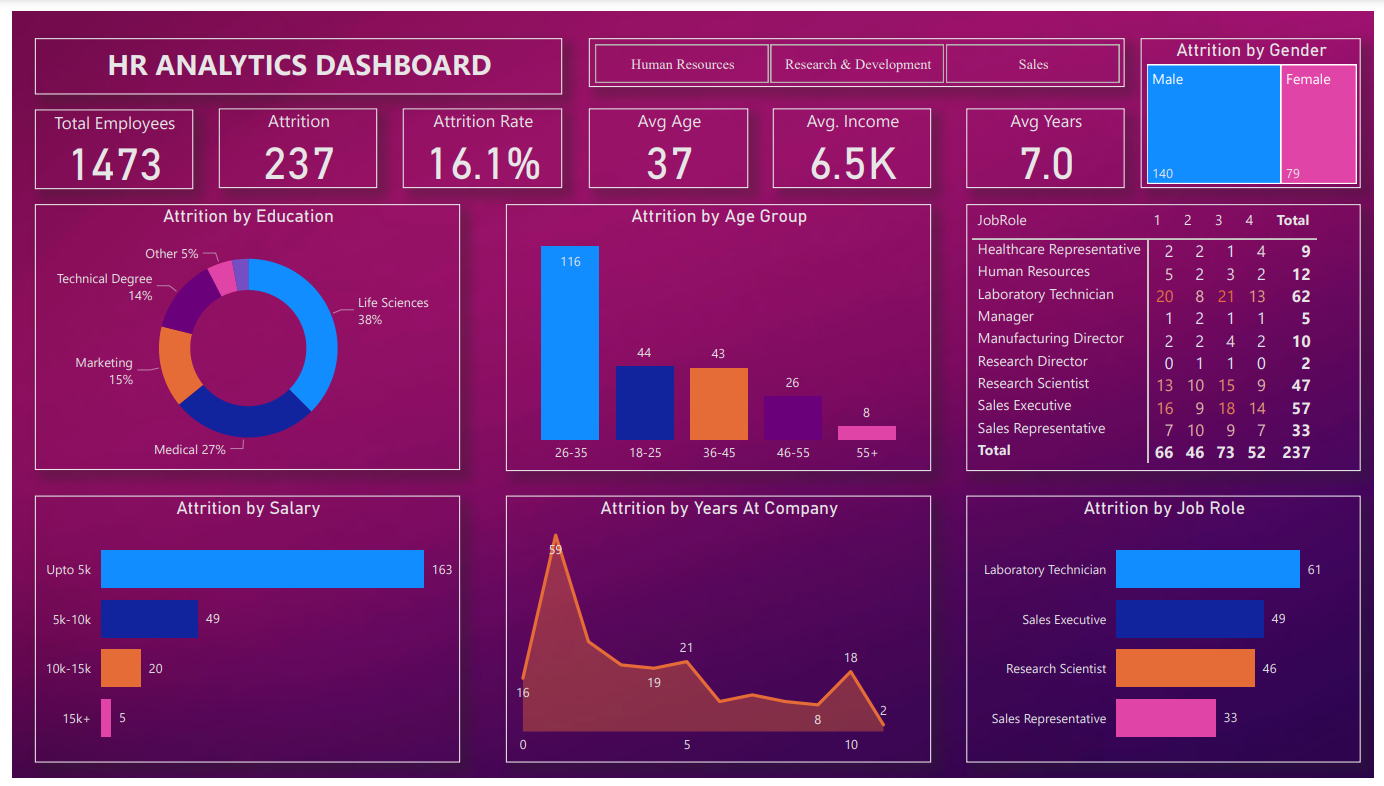

The dashboard page shown, as its layout file describes it:
{"tool":"powerbi","page":{"name":"Page 1","canvas":[1280,720],"ordinal":0},"visuals":[{"type":"card","title":"Total Employees","fields":{"Values":["CountNonNull(HR_Analytics.EmpID)"]},"box":[21.1,91.5,149,75.2],"z":0},{"type":"card","title":"Attrition","fields":{"Values":["Sum(HR_Analytics.AttritionCount)"]},"box":[193.8,91,149,75.2],"z":1000},{"type":"card","title":"Attrition Rate","fields":{"Values":["HR_Analytics.AttritionRate"]},"box":[366.5,91,150.3,75.2],"z":2000},{"type":"card","title":"Avg Age","fields":{"Values":["Avg(HR_Analytics.Age)"]},"box":[541.9,91,150.3,75.2],"z":3000},{"type":"card","title":"Avg. Income","fields":{"Values":["Avg(HR_Analytics.MonthlyIncome)"]},"box":[714.6,91,149,75.2],"z":4000},{"type":"card","title":"Avg Years","fields":{"Values":["Avg(HR_Analytics.YearsAtCompany)"]},"box":[896.6,91,149,75.2],"z":5000},{"type":"donutChart","title":"Attrition by Education","fields":{"Y":["Sum(HR_Analytics.AttritionCount)"],"Category":["HR_Analytics.EducationField"]},"box":[21.1,181.2,399.5,250],"z":6000},{"type":"columnChart","title":"Attrition by Age Group","fields":{"Category":["HR_Analytics.AgeGroup"],"Y":["Sum(HR_Analytics.AttritionCount)"]},"box":[464.1,181.2,399.5,250.5],"z":7000},{"type":"pivotTable","fields":{"Rows":["HR_Analytics.JobRole"],"Columns":["HR_Analytics.JobSatisfaction"],"Values":["Sum(HR_Analytics.AttritionCount)"]},"box":[896.6,181.2,371.8,250.5],"z":8000},{"type":"clusteredBarChart","title":"Attrition by Salary","fields":{"Category":["HR_Analytics.SalarySlab"],"Y":["Sum(HR_Analytics.AttritionCount)"]},"box":[21.1,455.4,399.5,250.5],"z":9000},{"type":"areaChart","title":"Attrition by Years At Company","fields":{"Y":["Sum(HR_Analytics.AttritionCount)"],"Category":["HR_Analytics.YearsAtCompany"]},"box":[464.1,455.4,399.5,250.5],"z":10000},{"type":"treemap","title":"Attrition by Gender","fields":{"Group":["HR_Analytics.Gender"],"Values":["Sum(HR_Analytics.AttritionCount)"]},"box":[1061.4,25.1,207,141.1],"z":11000},{"type":"barChart","title":"Attrition by Job Role","fields":{"Category":["HR_Analytics.JobRole"],"Y":["Sum(HR_Analytics.AttritionCount)"]},"box":[896.6,455.4,371.8,250.5],"z":12000},{"type":"advancedSlicerVisual","fields":{"Values":["HR_Analytics.Department"]},"box":[541.9,25.1,503.7,46.1],"z":13000},{"type":"textbox","box":[21.1,25.1,495.8,52.7],"z":14000}]}

Visuals, with their boxes in screenshot pixels (x1, y1, x2, y2), scaled from the page's 1280x720 canvas onto the 1384x786 screenshot:
"Total Employees" card: [23, 100, 184, 182]
"Attrition" card: [210, 99, 371, 181]
"Attrition Rate" card: [396, 99, 559, 181]
"Avg Age" card: [586, 99, 748, 181]
"Avg. Income" card: [773, 99, 934, 181]
"Avg Years" card: [969, 99, 1131, 181]
"Attrition by Education" donutChart: [23, 198, 455, 471]
"Attrition by Age Group" columnChart: [502, 198, 934, 471]
pivotTable - HR_Analytics.JobRole x HR_Analytics.JobSatisfaction: [969, 198, 1371, 471]
"Attrition by Salary" clusteredBarChart: [23, 497, 455, 771]
"Attrition by Years At Company" areaChart: [502, 497, 934, 771]
"Attrition by Gender" treemap: [1148, 27, 1371, 181]
"Attrition by Job Role" barChart: [969, 497, 1371, 771]
advancedSlicerVisual - HR_Analytics.Department: [586, 27, 1131, 78]
textbox: [23, 27, 559, 85]
